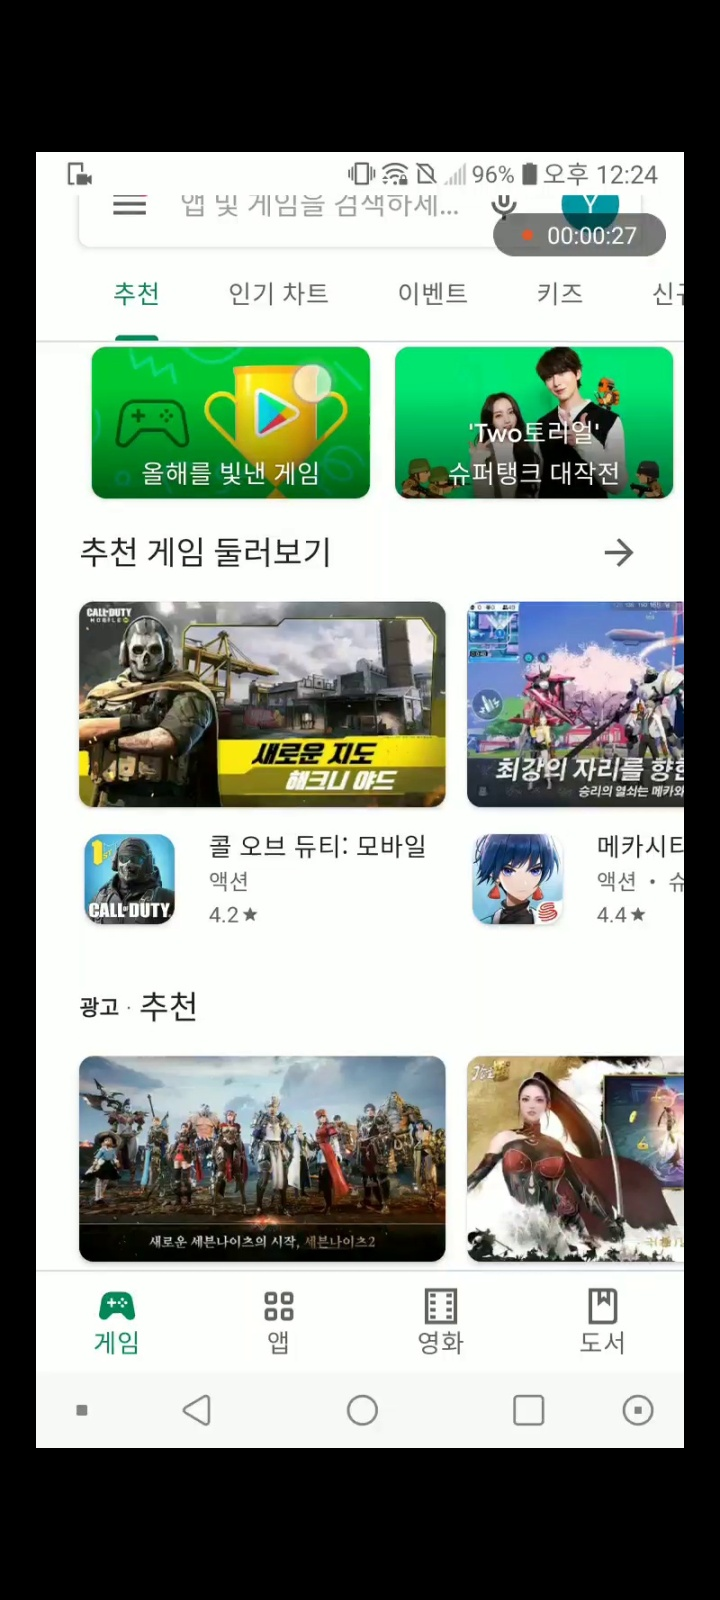Cursor: (290, 361, 335, 406)
